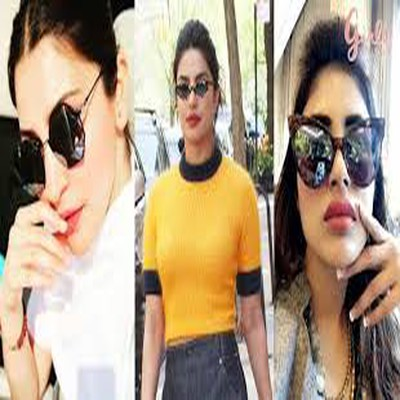eywear: (278, 103, 389, 199), (10, 105, 114, 195), (158, 75, 225, 102)
